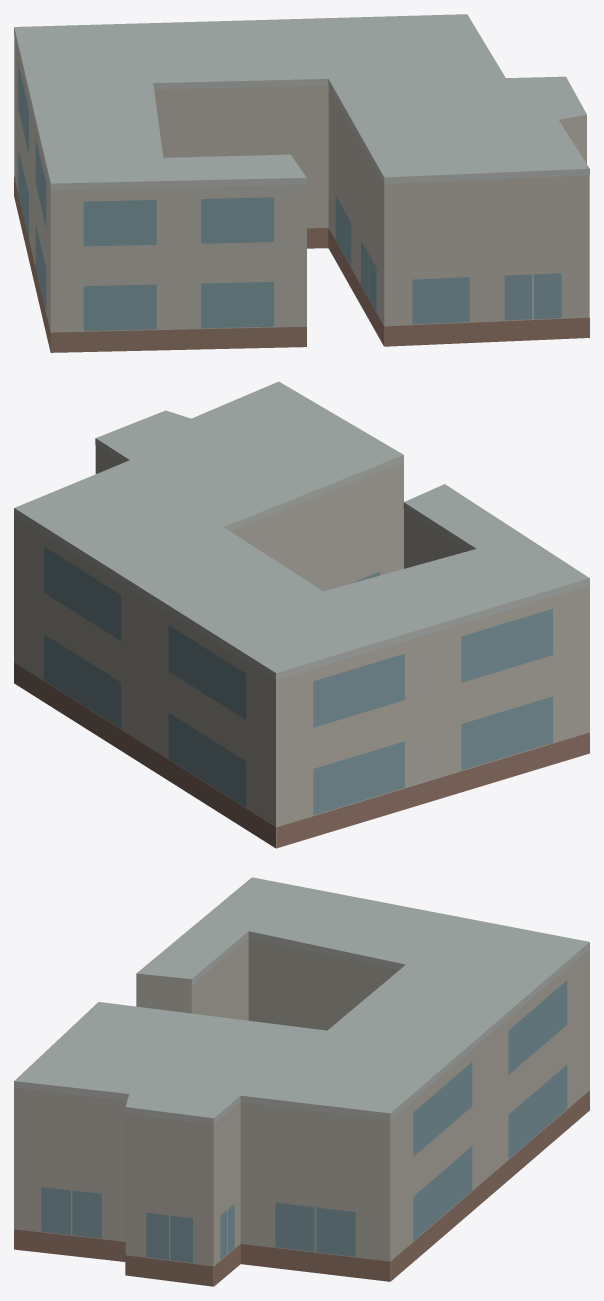
File: survey-upis-32470795.glb
3 renders of one model, top to bottom at view 1: azimuth 30°, elevation 25°; view 2: azimuth 150°, elevation 25°; view 3: azimuth 270°, elevation 25°, orthographic. The views are drawn at different scales.
Parts seen in each view (by area): view 1: survey-upis-32470795.tmp; view 2: survey-upis-32470795.tmp; view 3: survey-upis-32470795.tmp.
Part boxes in pixels (x1,y1,x2,y2): survey-upis-32470795.tmp: (14, 14, 589, 352); survey-upis-32470795.tmp: (14, 381, 589, 848); survey-upis-32470795.tmp: (14, 877, 589, 1286).
Size of the model in its own units: 18.73 by 6.1 by 18.91.
